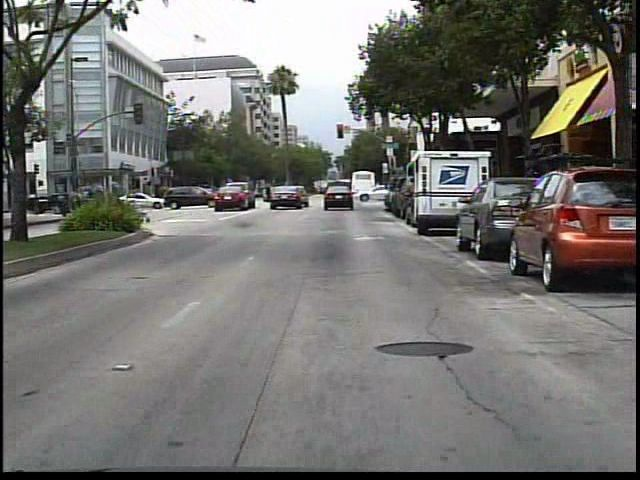person: (511, 150, 543, 235), (269, 182, 270, 206)
